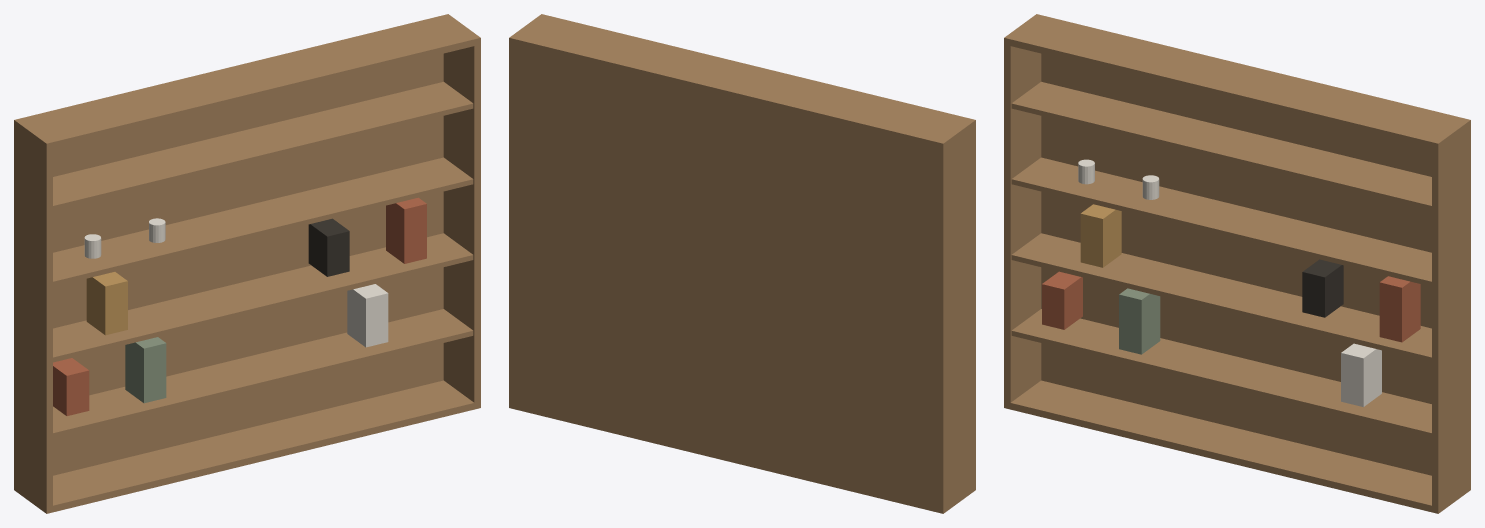
3 views of the same model, side by side, from view 1: azimuth 30°, elevation 25°; view 2: azimuth 150°, elevation 25°; view 3: azimuth 330°, elevation 25° (orthographic).
Visible parts, largest first — view 1: bookshelf; view 2: bookshelf; view 3: bookshelf.
Part boxes in pixels (x1,y1,x2,y2): bookshelf: [14, 14, 480, 513]; bookshelf: [509, 14, 975, 513]; bookshelf: [1004, 14, 1470, 513].
Bounding box in the file's own units: 2.7 × 2.2 × 0.35.
